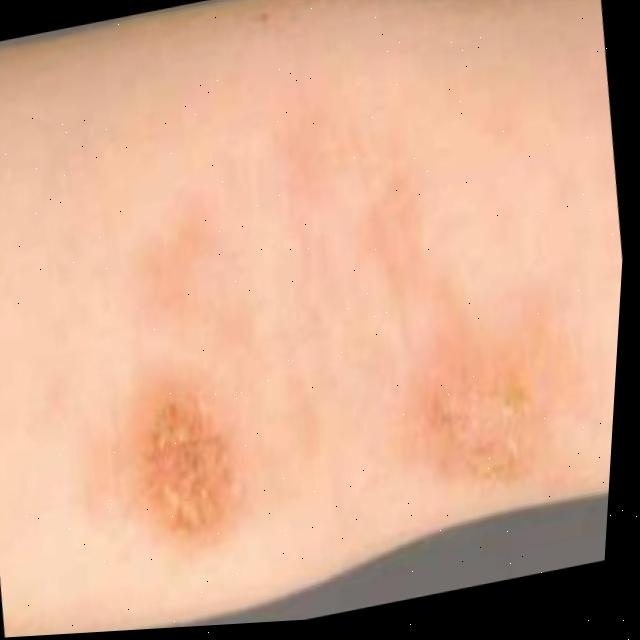Eczema: (103, 413, 236, 562), (406, 380, 528, 518)
